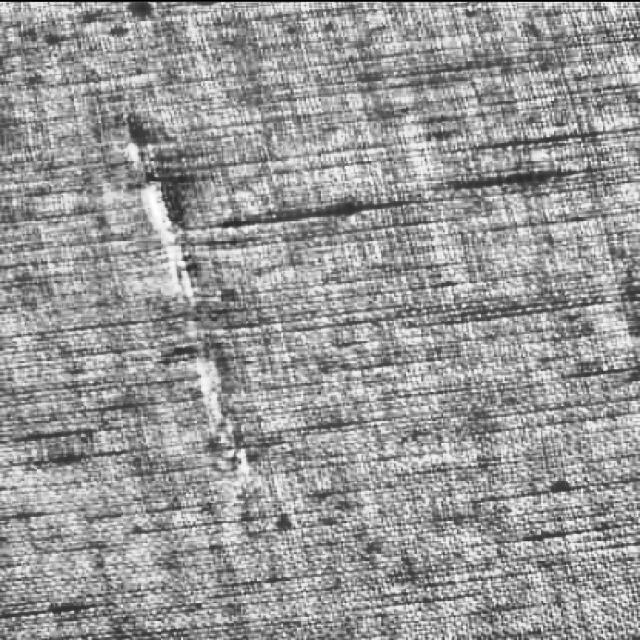thread_error: (112, 104, 258, 483)
